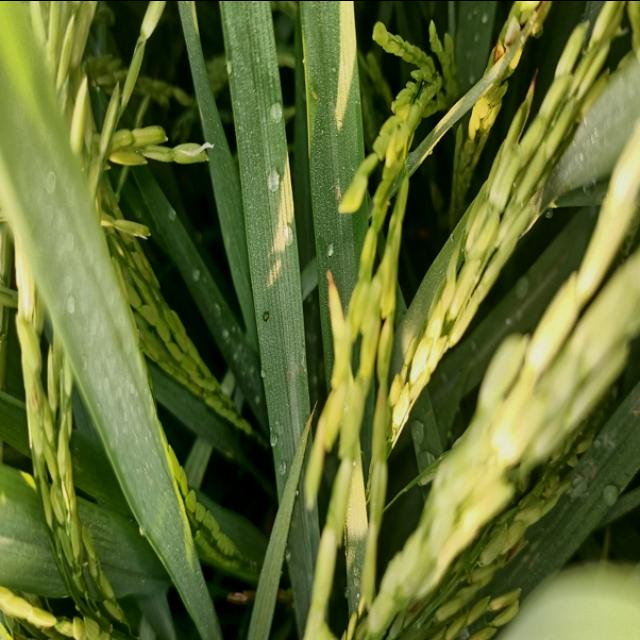insects: (258, 306, 278, 325)
